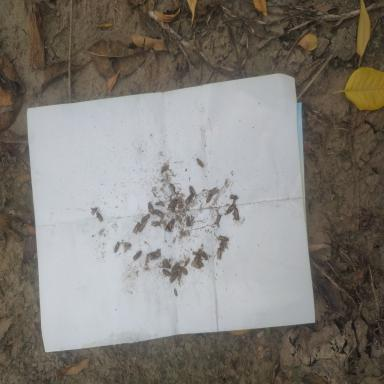pbw: (224, 203, 236, 215), (113, 241, 122, 257), (122, 239, 132, 253), (192, 260, 203, 271), (138, 220, 148, 232), (200, 250, 209, 262), (189, 184, 197, 197), (154, 208, 164, 218), (133, 250, 143, 260), (169, 272, 178, 283), (147, 201, 154, 214), (133, 221, 140, 234), (210, 186, 220, 195), (184, 255, 192, 266), (141, 214, 151, 222), (218, 241, 225, 252), (180, 266, 188, 275), (234, 208, 240, 220), (218, 236, 232, 241), (96, 211, 103, 221), (206, 193, 213, 203), (162, 269, 172, 276), (222, 240, 229, 250), (228, 195, 240, 200), (216, 213, 221, 225), (146, 254, 156, 260), (188, 216, 195, 224), (217, 248, 221, 260), (152, 220, 160, 226), (178, 270, 182, 281), (170, 184, 174, 194), (174, 288, 178, 296), (178, 204, 184, 208)
